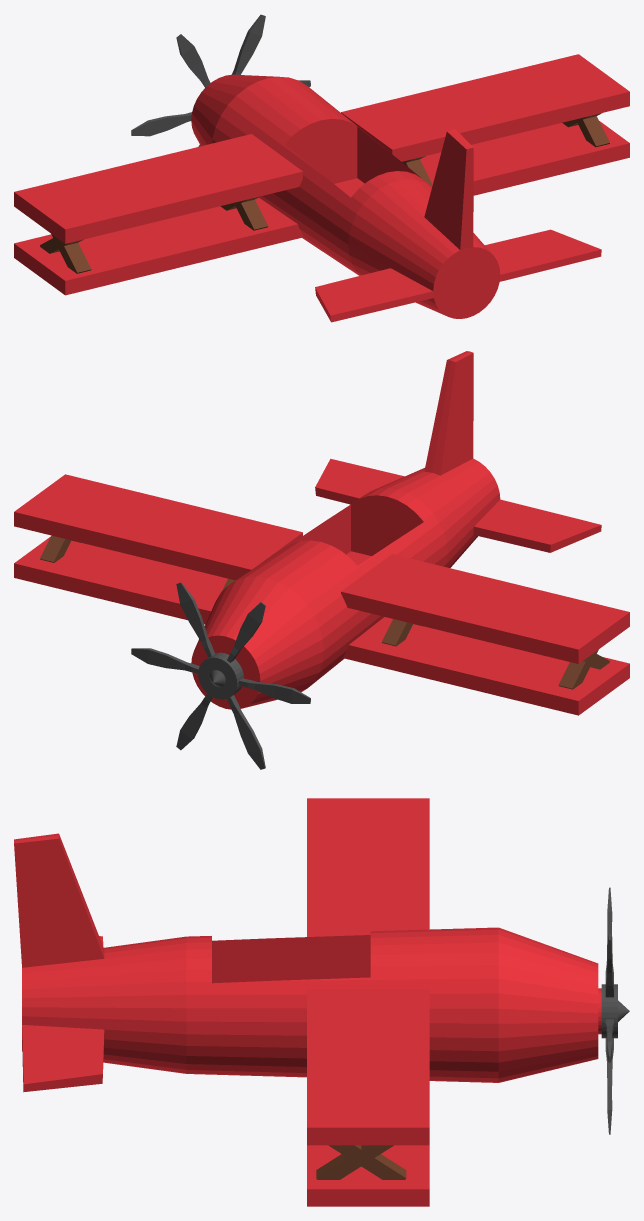
3 views of the same model, one above another, from view 1: azimuth 30°, elevation 25°; view 2: azimuth 150°, elevation 25°; view 3: azimuth 270°, elevation 25° (orthographic). The views are drawn at different scales.
Parts seen in each view (by area): view 1: Cylinder, Cube.001, Cube, Cylinder.001, Cube.004, Cube.005; view 2: Cylinder, Cube.001, Cube, Cylinder.001, Cube.004, Cube.005; view 3: Cylinder, Cube.001, Cube, Cylinder.001, Cube.004.
Boxes of the visible parts, x1,y1,x2,y2 form: Cylinder: (191, 74, 601, 322); Cube.001: (14, 54, 629, 243); Cube: (14, 121, 629, 295); Cylinder.001: (131, 14, 310, 146); Cube.004: (40, 113, 609, 273); Cube.005: (220, 156, 432, 230); Cylinder: (191, 351, 601, 709); Cube.001: (14, 474, 629, 663); Cube: (14, 536, 629, 715); Cylinder.001: (131, 582, 310, 769); Cube.004: (40, 535, 609, 689); Cube.005: (222, 578, 422, 646); Cylinder: (14, 833, 601, 1092); Cube.001: (307, 798, 429, 1145); Cube: (307, 1145, 429, 1206); Cylinder.001: (601, 887, 629, 1134); Cube.004: (316, 1145, 406, 1179).
Bounding box in the file's own units: 1002 × 391 × 792.
